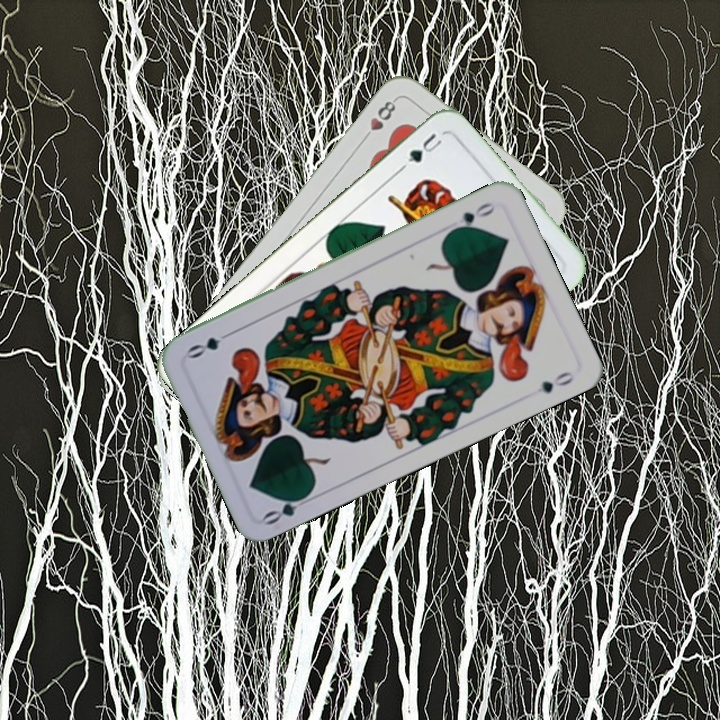GO: (259, 488, 316, 528), (446, 198, 498, 235)
GU: (403, 129, 447, 166)
H8: (358, 94, 400, 144)
